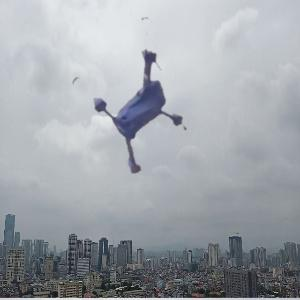drone: (69, 26, 205, 162)
